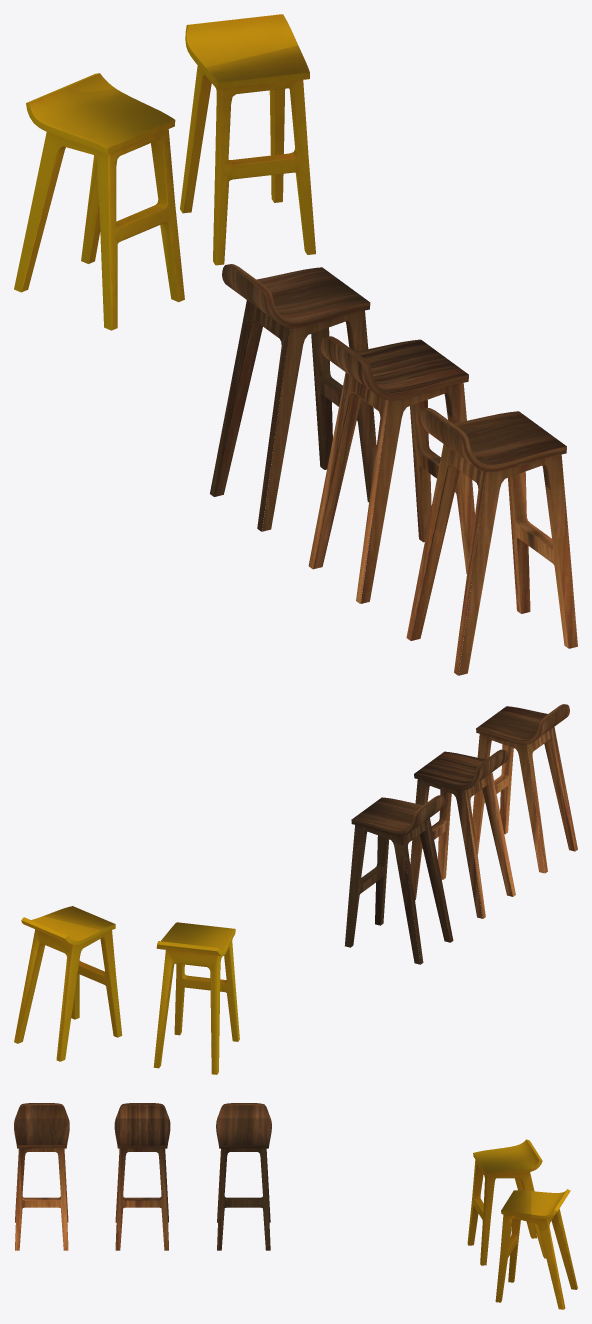
Rendered from Chair.glb.
3 renders of one model, top to bottom at view 1: azimuth 30°, elevation 25°; view 2: azimuth 150°, elevation 25°; view 3: azimuth 270°, elevation 25°, orthographic. The views are drawn at different scales.
Parts seen in each view (by area): view 1: SM_BarStools_surfaceShader3_0, SM_BarStools_surfaceShader3_0.007, SM_BarStools_surfaceShader3_0.005, SM_BarStools_surfaceShader3_0.003, SM_BarStools_surfaceShader3_0.009; view 2: SM_BarStools_surfaceShader3_0.005, SM_BarStools_surfaceShader3_0.003, SM_BarStools_surfaceShader3_0, SM_BarStools_surfaceShader3_0.009, SM_BarStools_surfaceShader3_0.007; view 3: SM_BarStools_surfaceShader3_0.009, SM_BarStools_surfaceShader3_0.003, SM_BarStools_surfaceShader3_0, SM_BarStools_surfaceShader3_0.005, SM_BarStools_surfaceShader3_0.007.
Boxes of the visible parts, left/top/right/bottom form: SM_BarStools_surfaceShader3_0: left=406, top=408, right=577, bottom=675; SM_BarStools_surfaceShader3_0.007: left=14, top=73, right=184, bottom=330; SM_BarStools_surfaceShader3_0.005: left=210, top=264, right=376, bottom=531; SM_BarStools_surfaceShader3_0.003: left=308, top=336, right=474, bottom=603; SM_BarStools_surfaceShader3_0.009: left=180, top=14, right=315, bottom=265; SM_BarStools_surfaceShader3_0.005: left=345, top=795, right=453, bottom=964; SM_BarStools_surfaceShader3_0.003: left=410, top=749, right=515, bottom=918; SM_BarStools_surfaceShader3_0: left=472, top=704, right=577, bottom=873; SM_BarStools_surfaceShader3_0.009: left=14, top=906, right=122, bottom=1061; SM_BarStools_surfaceShader3_0.007: left=153, top=922, right=239, bottom=1074; SM_BarStools_surfaceShader3_0.009: left=495, top=1189, right=577, bottom=1309; SM_BarStools_surfaceShader3_0.003: left=114, top=1103, right=170, bottom=1250; SM_BarStools_surfaceShader3_0: left=14, top=1103, right=69, bottom=1250; SM_BarStools_surfaceShader3_0.005: left=216, top=1103, right=271, bottom=1250; SM_BarStools_surfaceShader3_0.007: left=467, top=1139, right=545, bottom=1265.
Size of the model in its own units: 1.19 by 0.7464 by 3.19.
Materials: 1 (1 with a texture image).
